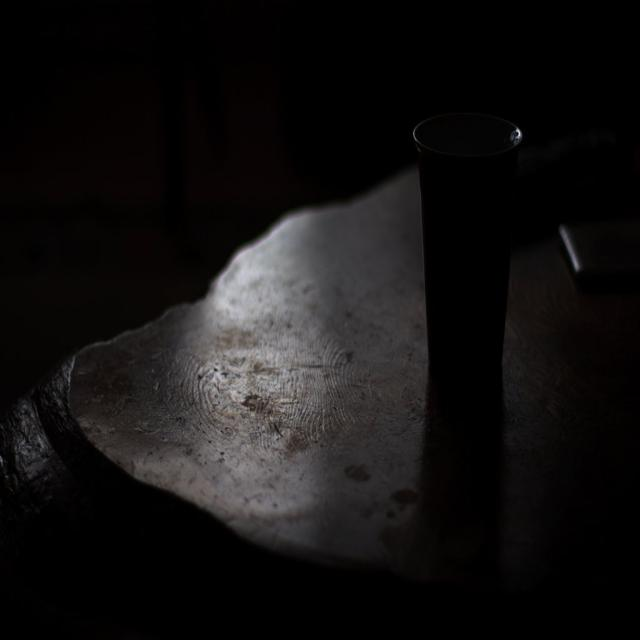Cup: (406, 90, 526, 420)
Table: (25, 182, 639, 640)
